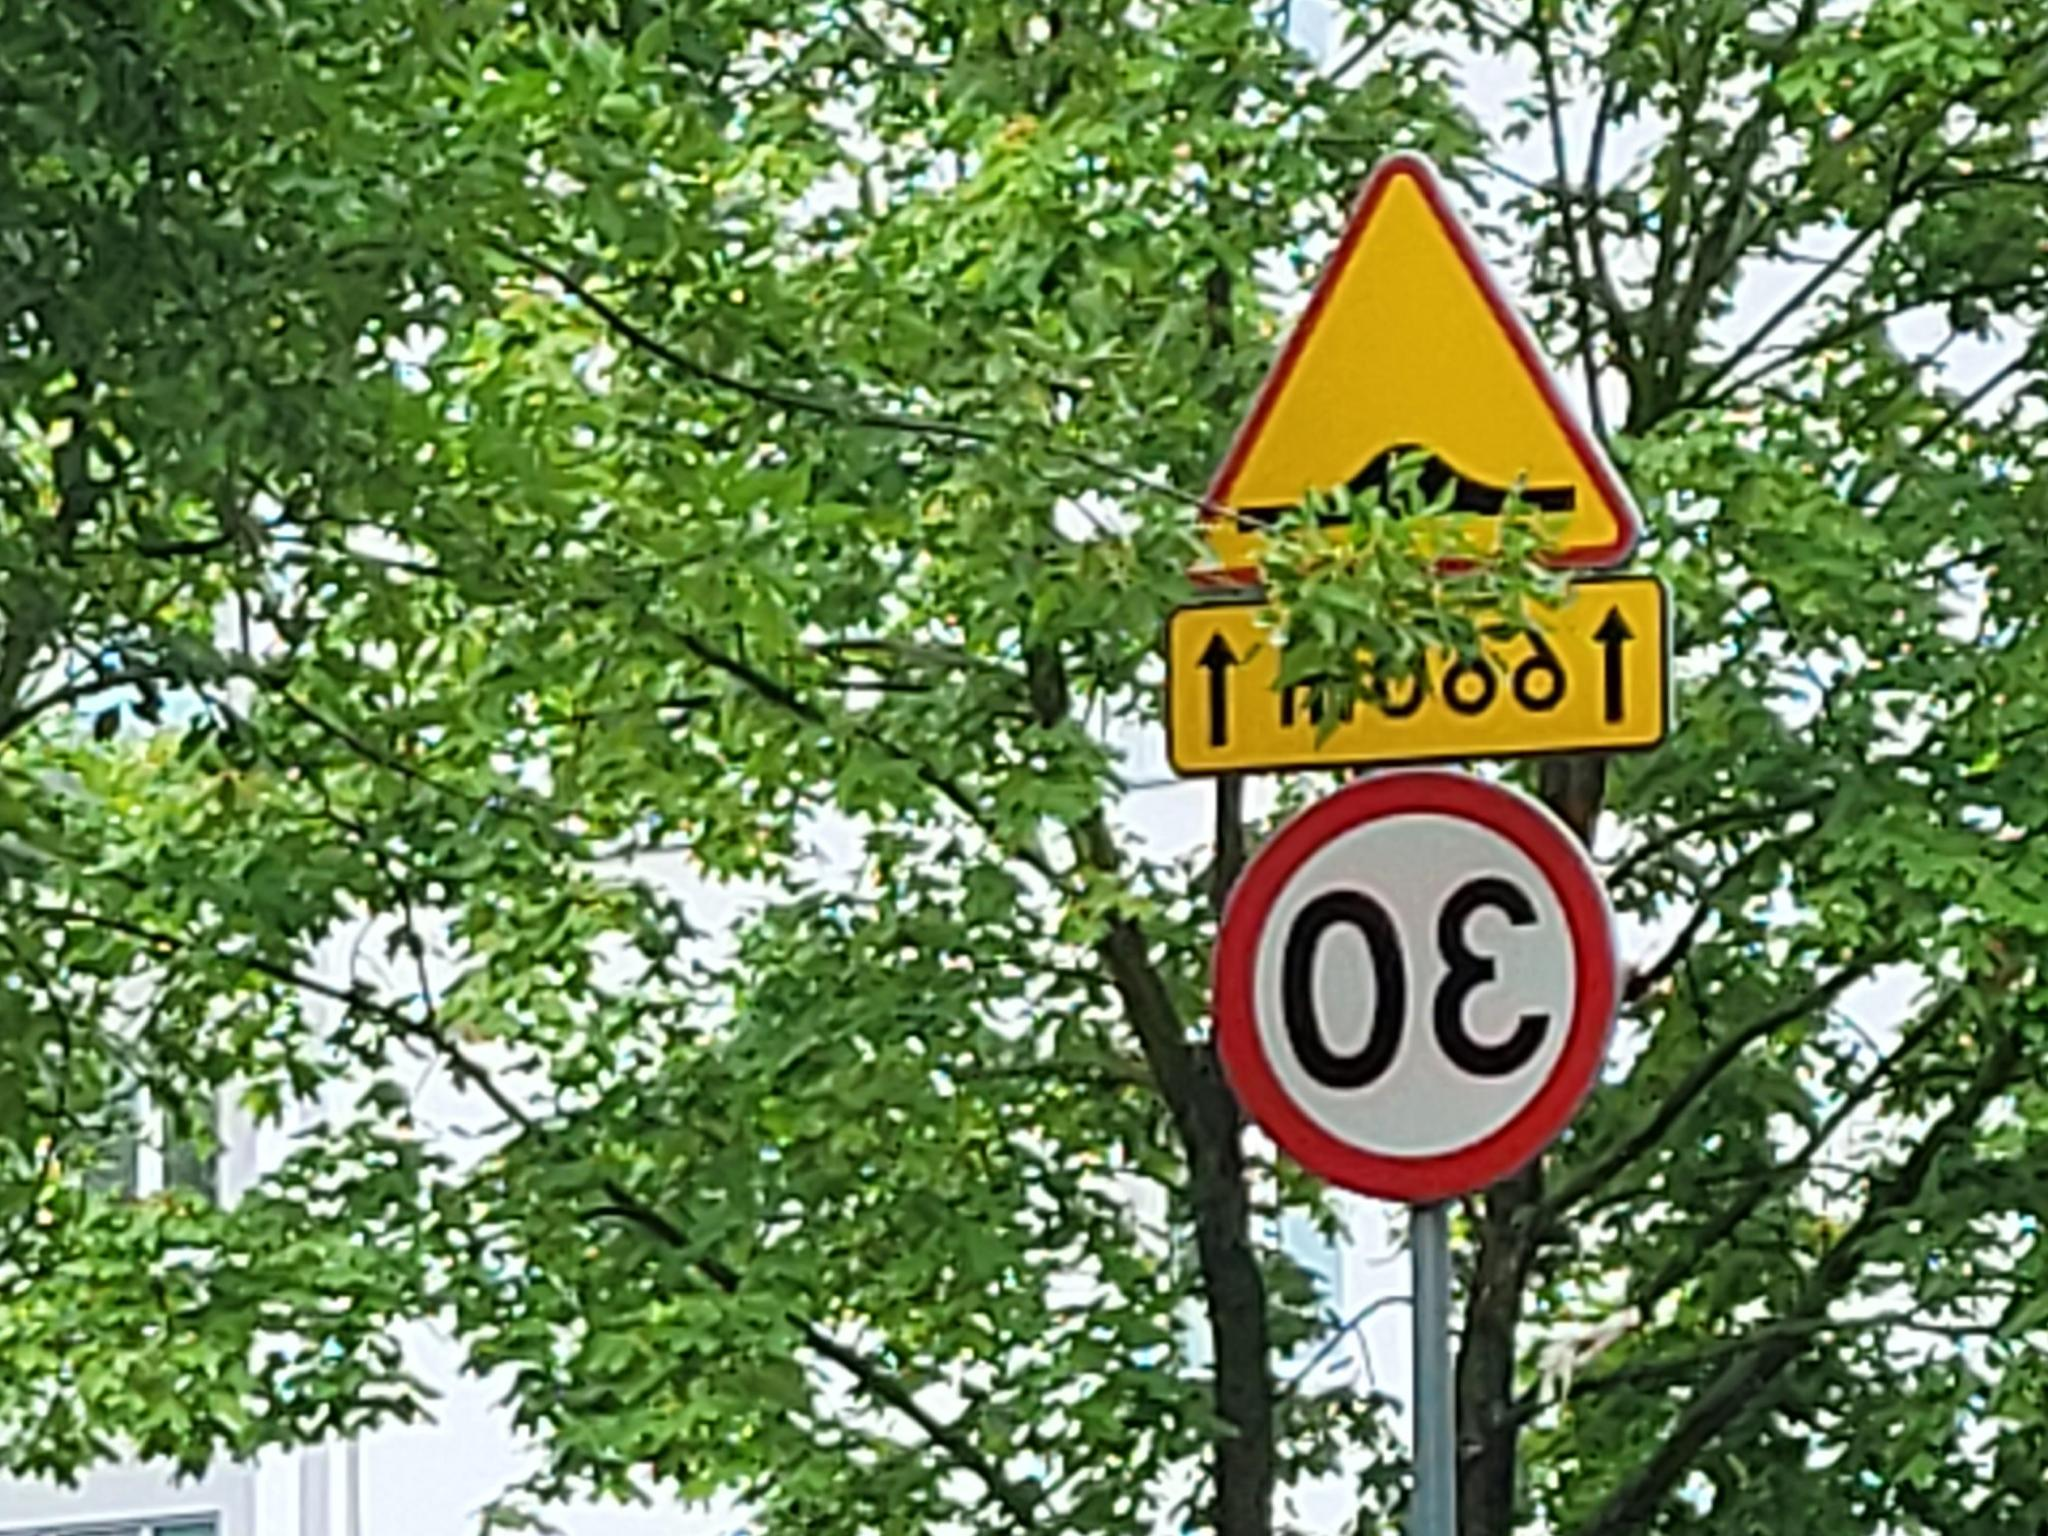other: (1164, 587, 1669, 768)
prohibitory: (1211, 766, 1622, 1205)
warning: (1177, 148, 1645, 589)
